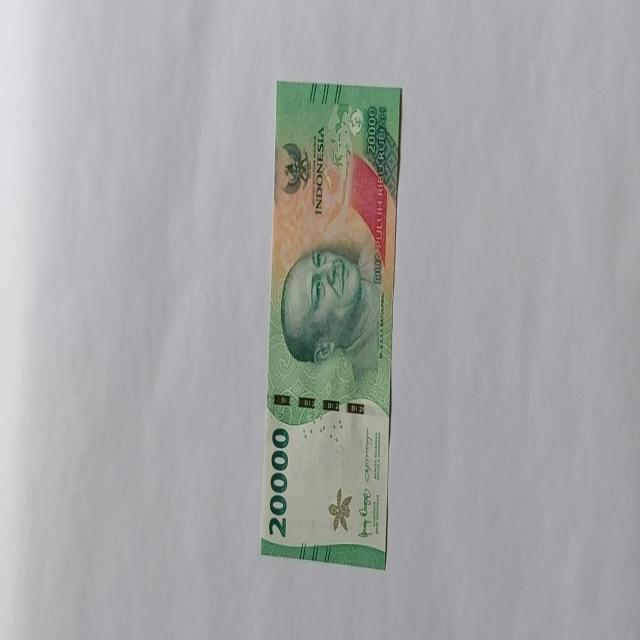dua puluh ribu rupiah: (260, 80, 402, 569), (279, 242, 382, 376)
